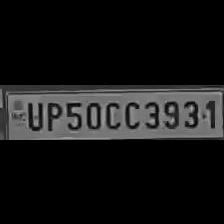0: (84, 98, 103, 130)
1: (201, 96, 219, 128)
3: (180, 96, 200, 128), (142, 96, 160, 130)
5: (62, 97, 82, 130)
9: (160, 96, 180, 128)
C: (122, 96, 140, 130), (102, 97, 120, 129)
P: (43, 98, 62, 132)
U: (23, 98, 43, 130)
